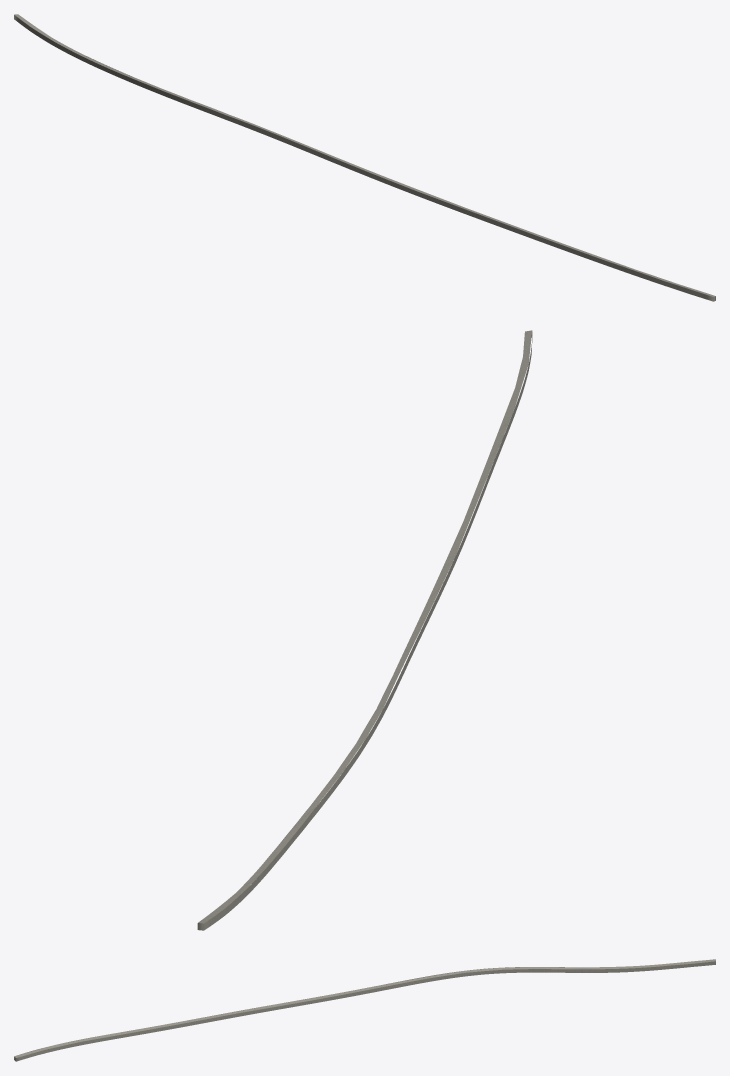
The model's file is curb_05.gltf.
The picture shows the model from 3 angles, top to bottom: view 1: azimuth 30°, elevation 25°; view 2: azimuth 150°, elevation 25°; view 3: azimuth 270°, elevation 25°; orthographic projection. The views are drawn at different scales.
Visible parts, largest first — view 1: curb_05.sides, curb_05.surface; view 2: curb_05.surface, curb_05.sides; view 3: curb_05.sides, curb_05.surface.
Part boxes in pixels (x1,y1,x2,y2): curb_05.sides: (14, 15, 715, 301); curb_05.surface: (14, 14, 715, 296); curb_05.surface: (198, 330, 532, 923); curb_05.sides: (197, 332, 532, 930); curb_05.sides: (14, 961, 715, 1061); curb_05.surface: (14, 959, 715, 1057).
Bounding box in the file's own units: 8.92 × 0.7284 × 28.61.
1 material, 1 textured.
